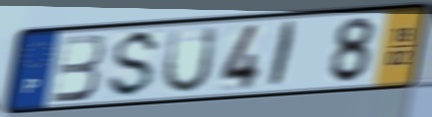4: (217, 21, 263, 92)
8: (328, 15, 378, 85)
B: (49, 32, 107, 105)
I: (266, 19, 301, 91)
S: (104, 27, 164, 101)
U: (160, 24, 221, 96)
